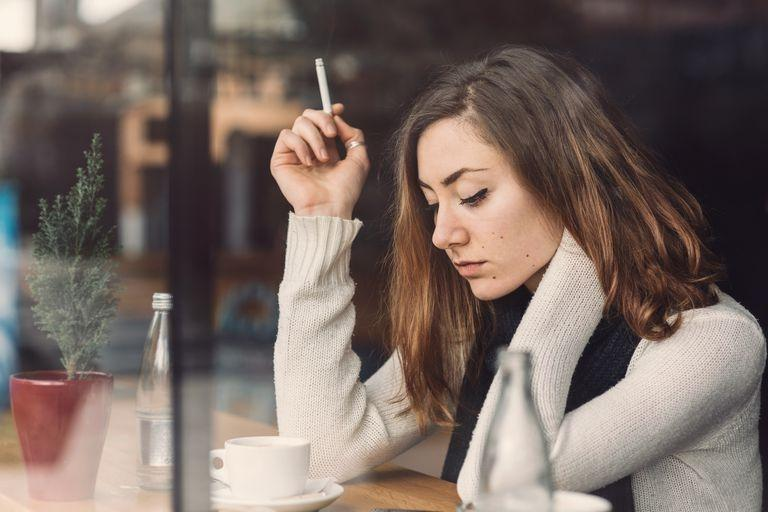cigarette: (314, 57, 335, 115)
